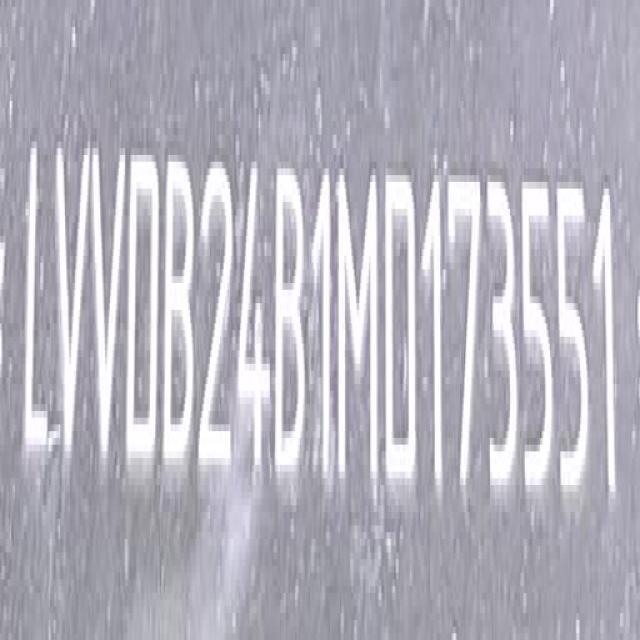1: (311, 163, 335, 499), (597, 185, 621, 512), (424, 164, 444, 506)
2: (201, 162, 235, 488)
3: (490, 171, 520, 506)
4: (236, 161, 271, 493)
5: (558, 181, 591, 507), (522, 170, 554, 504)
7: (452, 166, 482, 511)
B: (163, 151, 197, 479), (276, 167, 306, 493)
D: (388, 164, 424, 510), (129, 144, 161, 478)
L: (23, 130, 53, 469)
M: (340, 167, 383, 505)
V: (90, 134, 128, 482), (53, 130, 89, 473)
